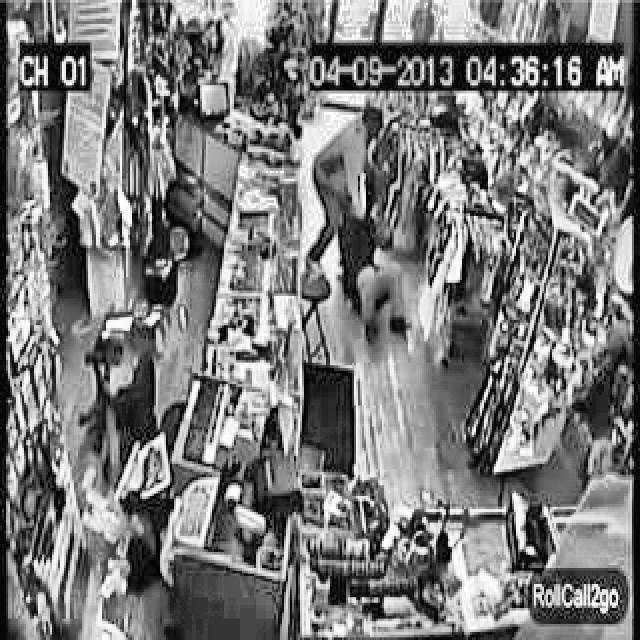robbery: (302, 104, 410, 342)
